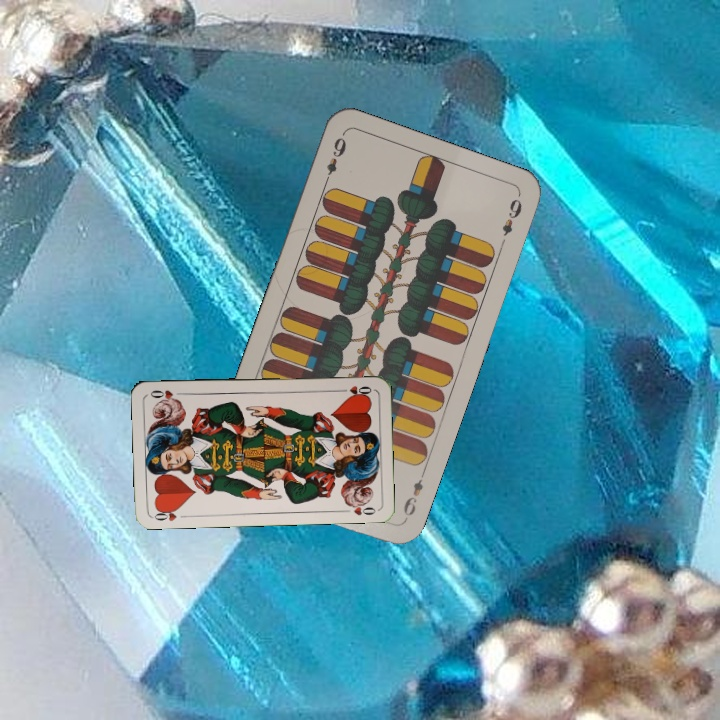E9: (320, 130, 349, 188), (399, 467, 428, 524)
HO: (334, 382, 374, 398), (149, 504, 182, 523)
